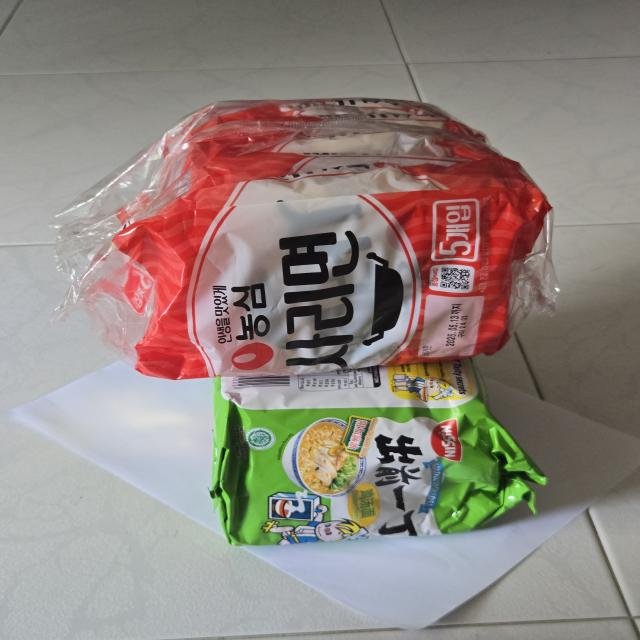instant-noodle: (71, 84, 559, 382), (195, 358, 557, 560)
